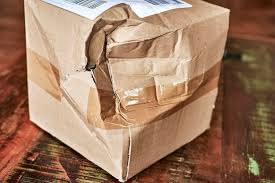damaged package: (60, 18, 174, 123)
